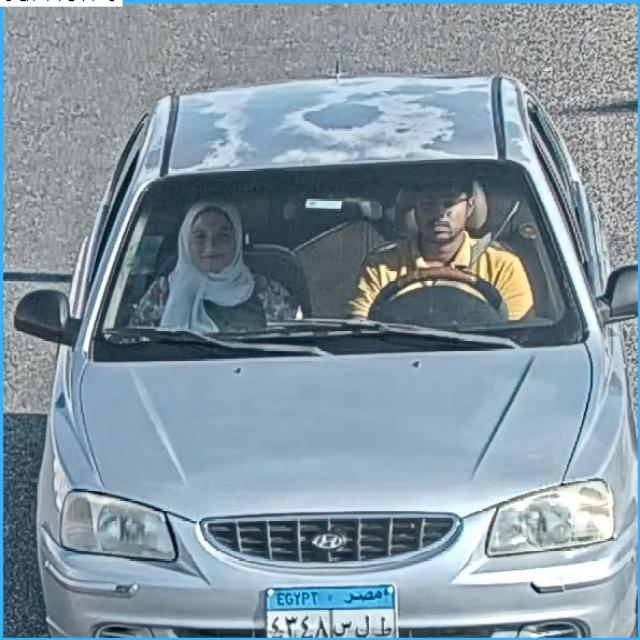windshield: (92, 176, 582, 341)
